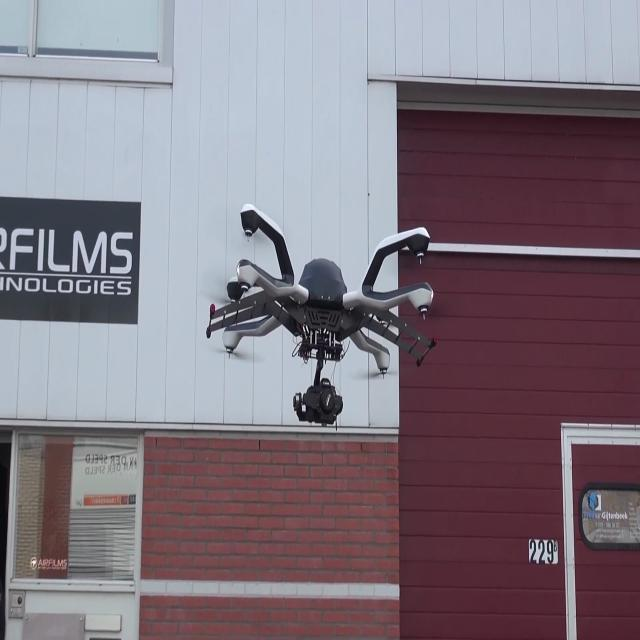drone: (210, 170, 434, 408)
